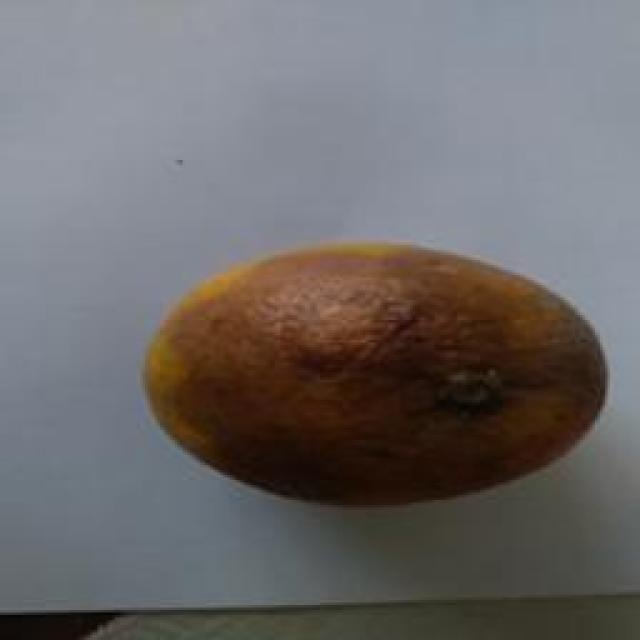Rotten_Orange: (117, 231, 610, 523)
